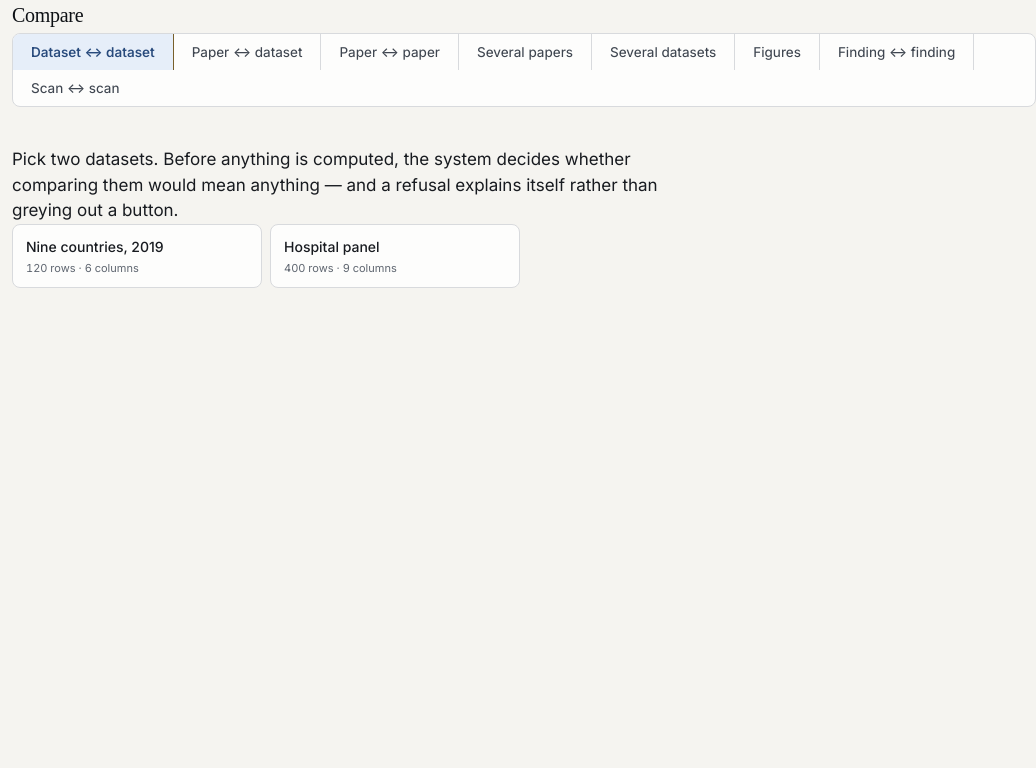
recording a design the comparison stopped for › offers to record both sides when neither says anything
Click the text "Nine countries, 2019" at [95, 246], box [26,238,164,254]
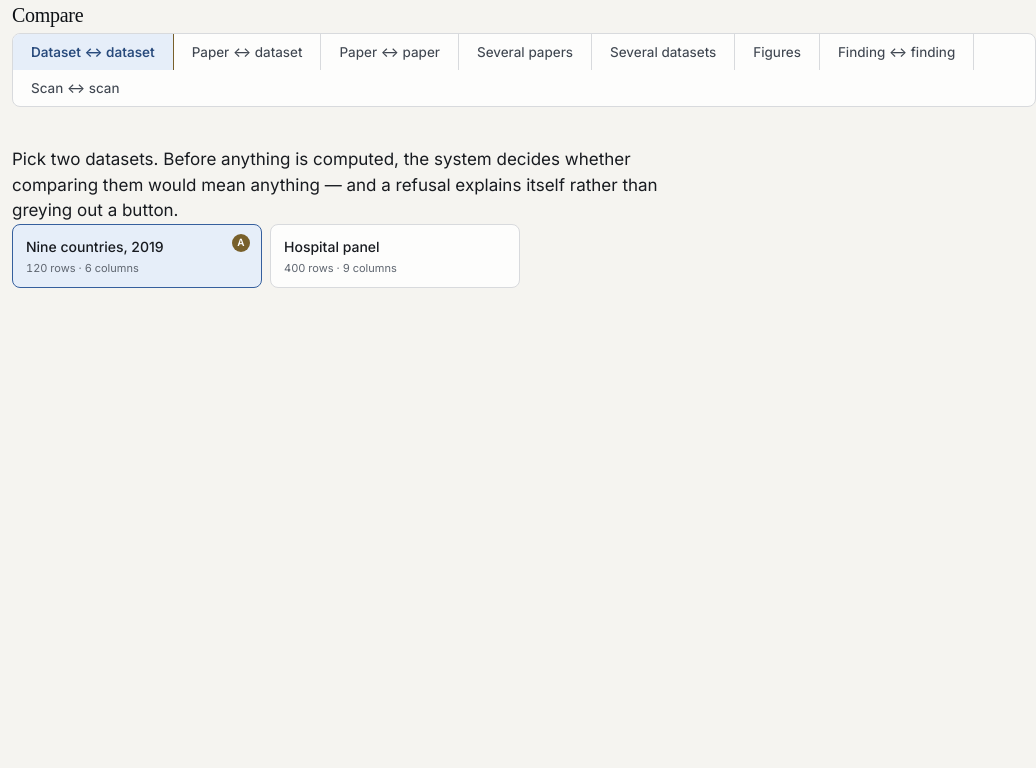
Click the text "Hospital panel" at [332, 246], box [284,238,380,254]
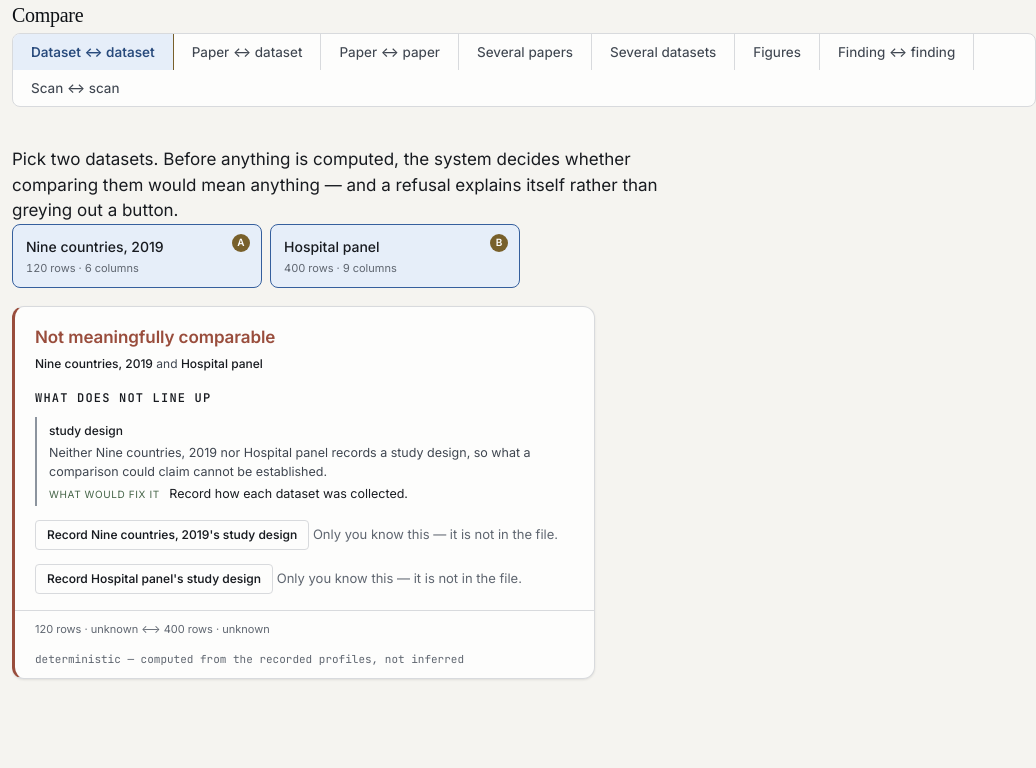
expect the text "cannot be established" is shown: met, box [49,444,531,478]
expect the button "Record Nine countries, 2019's study design" is shown: met, box [35,520,309,550]
expect the button "Record Hospital panel's study design" is shown: met, box [35,564,273,594]
